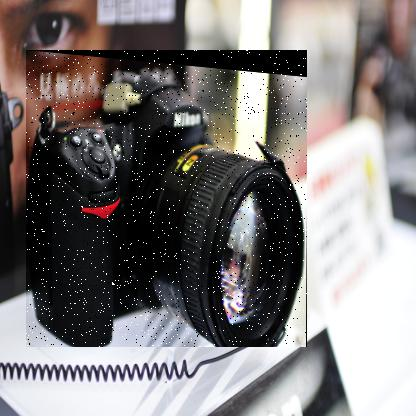Camera: (27, 51, 309, 349)
